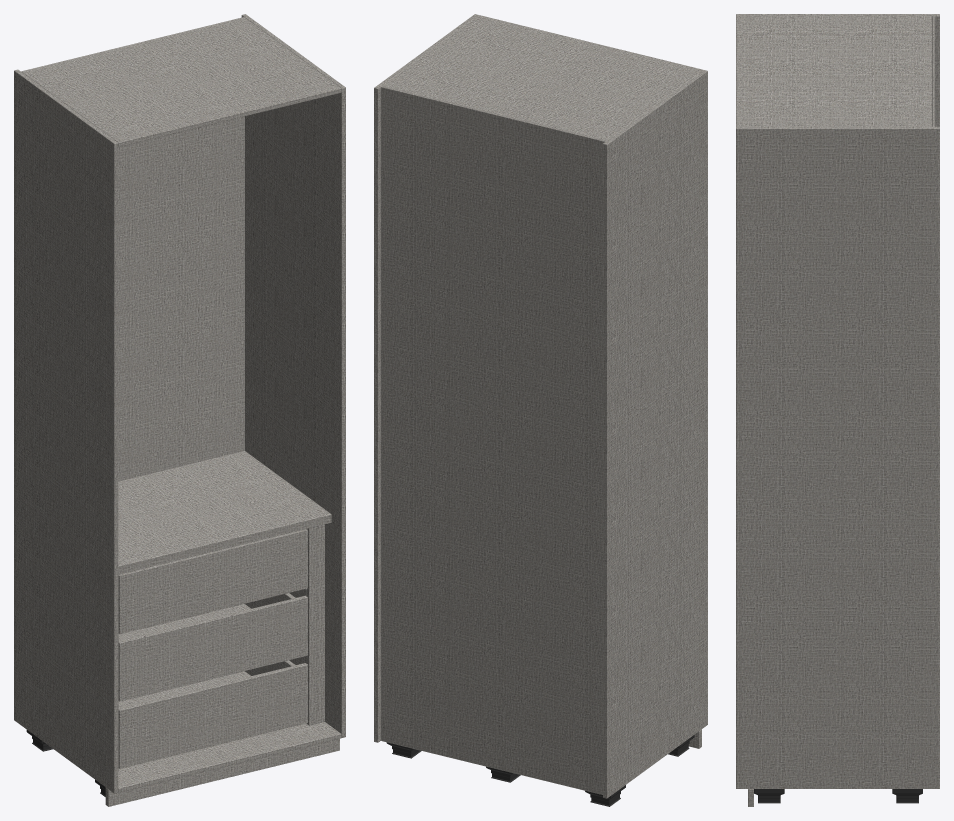
The model's file is cbib12146.gltf.
3 views of the same model, side by side, from view 1: azimuth 30°, elevation 25°; view 2: azimuth 150°, elevation 25°; view 3: azimuth 270°, elevation 25° (orthographic).
Visible parts, largest first — view 1: CBIB12146; view 2: CBIB12146; view 3: CBIB12146.
Boxes of the visible parts, bbox=[...] form: CBIB12146: bbox=[14, 14, 345, 806]; CBIB12146: bbox=[374, 14, 707, 806]; CBIB12146: bbox=[736, 14, 939, 806].
Size of the model in its own units: 0.8 by 2.2 by 0.6.
3 materials, 2 textured.
